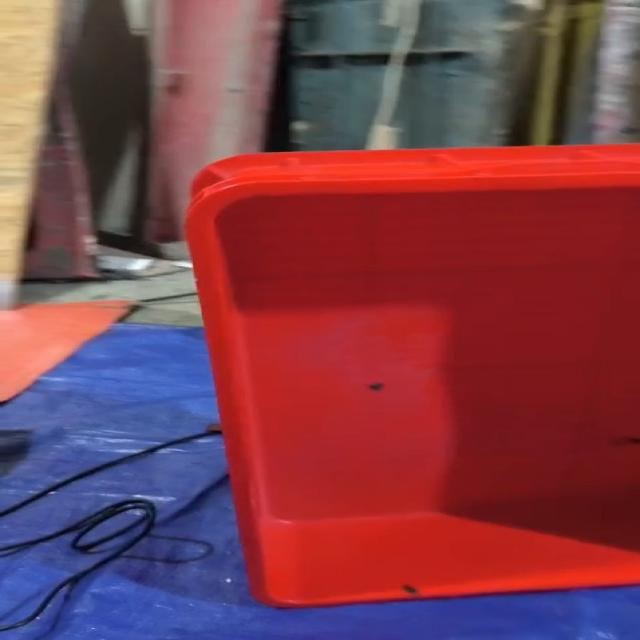red plastic box: (184, 143, 638, 609)
